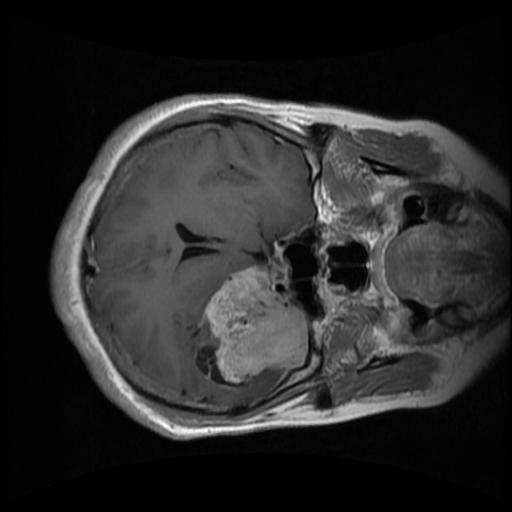meningioma: (196, 262, 308, 387)
